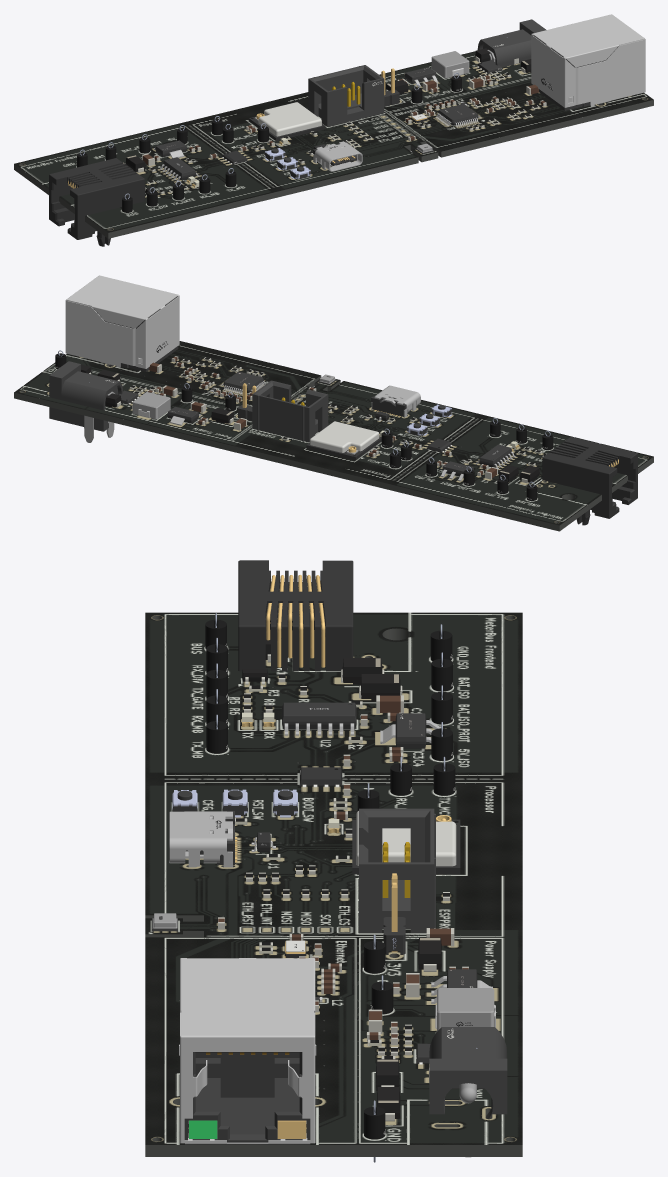
The model's file is eveningstar-black.glb.
3 views of the same model, one above another, from view 1: azimuth 30°, elevation 25°; view 2: azimuth 150°, elevation 25°; view 3: azimuth 270°, elevation 25° (orthographic). The views are drawn at different scales.
Parts seen in each view (by area): view 1: =>[0:1:1:54], =>[0:1:1:27], =>[0:1:1:11], =>[0:1:1:25], =>[0:1:1:3], =>[0:1:1:5], =>[0:1:1:7], =>[0:1:1:23], =>[0:1:1:31], =>[0:1:1:9]; view 2: =>[0:1:1:54], =>[0:1:1:27], =>[0:1:1:11], =>[0:1:1:25], =>[0:1:1:3], =>[0:1:1:5], =>[0:1:1:31], =>[0:1:1:7], =>[0:1:1:23], =>[0:1:1:9]; view 3: =>[0:1:1:54], =>[0:1:1:27], =>[0:1:1:11], =>[0:1:1:3], =>[0:1:1:25], =>[0:1:1:5], =>[0:1:1:31], =>[0:1:1:23], =>[0:1:1:7], =>[0:1:1:9].
Part boxes in pixels (x1,y1,x2,y2): =>[0:1:1:54]: (14, 51, 653, 238); =>[0:1:1:27]: (531, 14, 645, 110); =>[0:1:1:11]: (49, 58, 469, 246); =>[0:1:1:25]: (308, 19, 546, 154); =>[0:1:1:3]: (77, 56, 552, 212); =>[0:1:1:5]: (153, 44, 503, 181); =>[0:1:1:7]: (143, 75, 544, 164); =>[0:1:1:23]: (431, 51, 469, 78); =>[0:1:1:31]: (123, 48, 531, 171); =>[0:1:1:9]: (264, 148, 310, 178); =>[0:1:1:54]: (14, 341, 653, 531); =>[0:1:1:27]: (65, 275, 179, 371); =>[0:1:1:11]: (132, 383, 637, 525); =>[0:1:1:25]: (49, 361, 336, 442); =>[0:1:1:3]: (55, 341, 553, 500); =>[0:1:1:5]: (56, 367, 547, 499); =>[0:1:1:31]: (81, 364, 539, 482); =>[0:1:1:7]: (148, 357, 496, 478); =>[0:1:1:23]: (133, 392, 389, 420); =>[0:1:1:9]: (406, 404, 451, 435); =>[0:1:1:54]: (145, 612, 522, 1156); =>[0:1:1:27]: (179, 958, 316, 1144); =>[0:1:1:11]: (169, 560, 494, 1138); =>[0:1:1:3]: (205, 619, 472, 1139); =>[0:1:1:25]: (152, 808, 507, 1157); =>[0:1:1:5]: (172, 643, 492, 1134); =>[0:1:1:31]: (265, 639, 441, 1118); =>[0:1:1:23]: (251, 833, 495, 1028); =>[0:1:1:7]: (218, 695, 468, 1039); =>[0:1:1:9]: (172, 789, 297, 817).
Size of the model in its own units: 0.1477 by 0.0232 by 0.0436.
37 materials, 2 textured.
